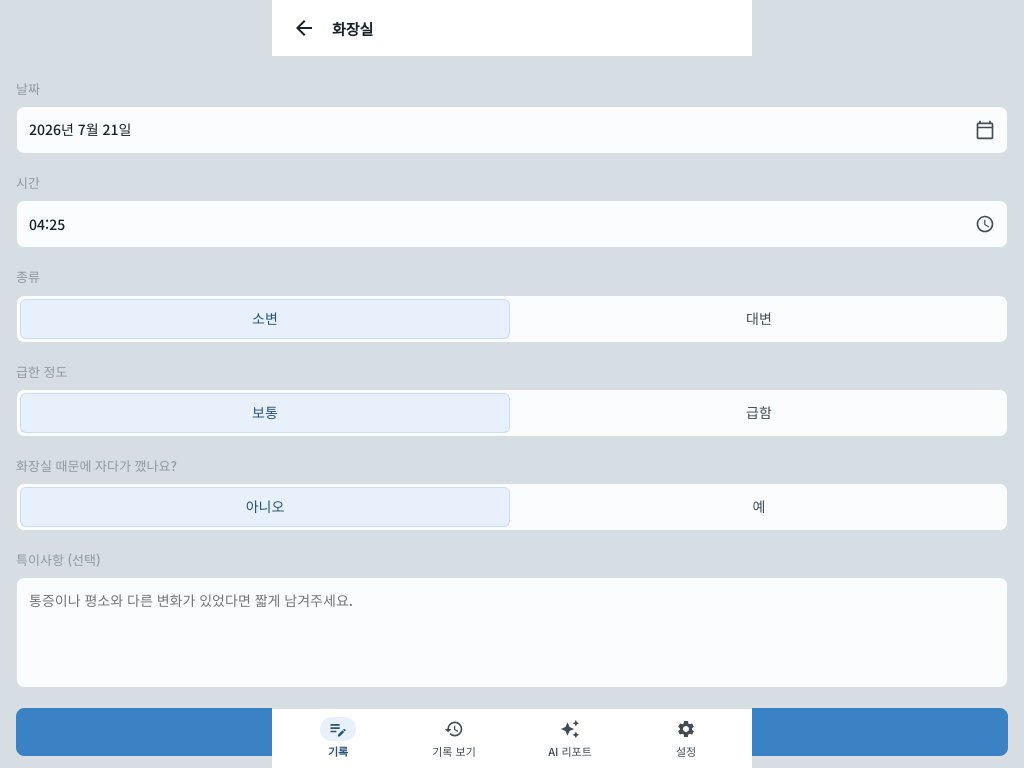
Test: ToiletPageClient › shows the stool consistency options for a bowel record
This screenshot has width=1024, height=768.
Click the button "대변": [759, 319] box [514,299,1004,339]
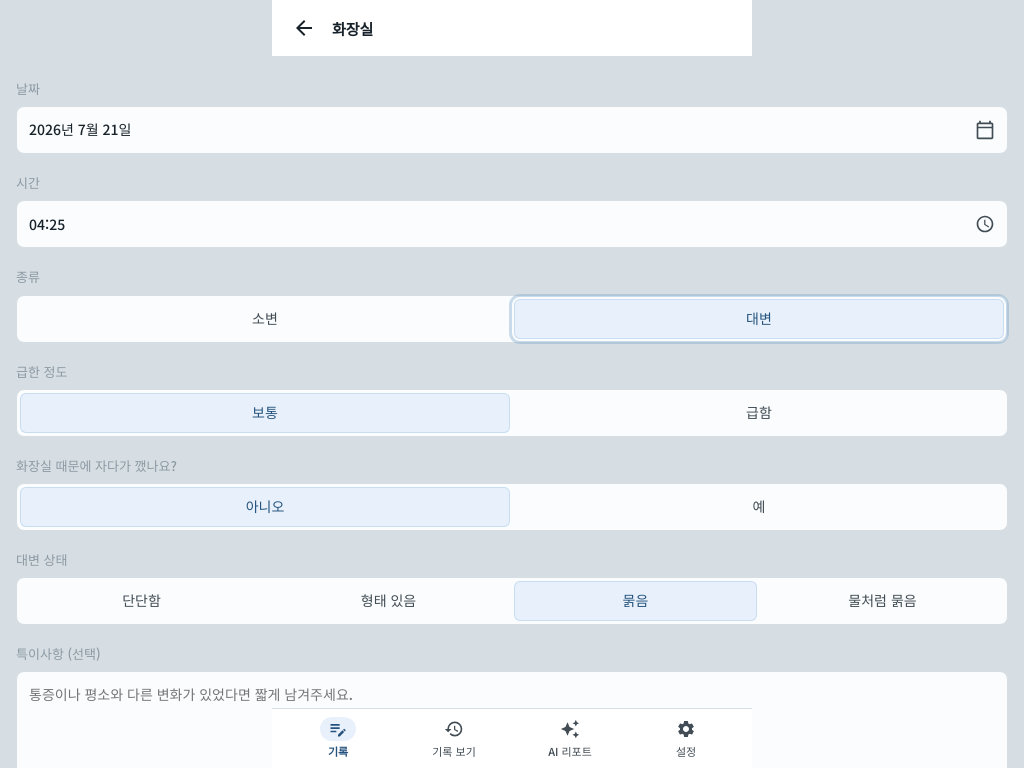
Expected: the button "묽음" is shown, [514,581,757,621]
